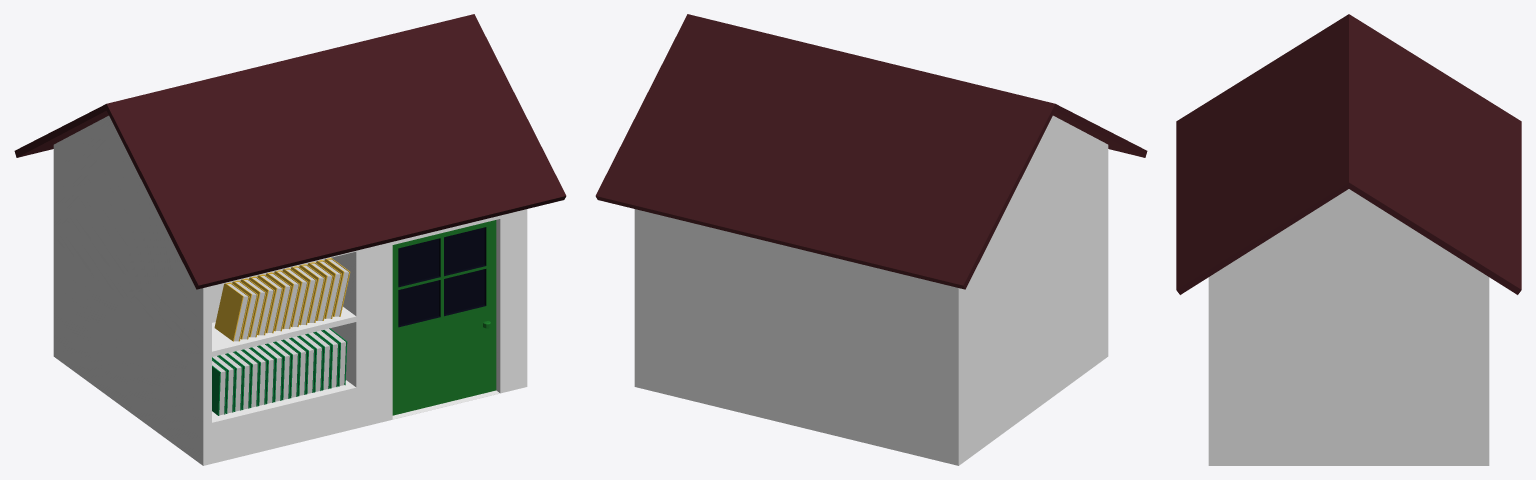
File: Library.fbx
3 views of the same model, side by side, from view 1: azimuth 30°, elevation 25°; view 2: azimuth 150°, elevation 25°; view 3: azimuth 270°, elevation 25° (orthographic). The views are drawn at different scales.
Visible parts, largest first — view 1: Plane.114; view 2: Plane.114; view 3: Plane.114.
Boxes of the visible parts, <box> form: Plane.114: <box>14,14,566,465</box>; Plane.114: <box>595,14,1147,465</box>; Plane.114: <box>1176,14,1521,465</box>.
Bounding box in the file's own units: 495 × 402 × 429.
